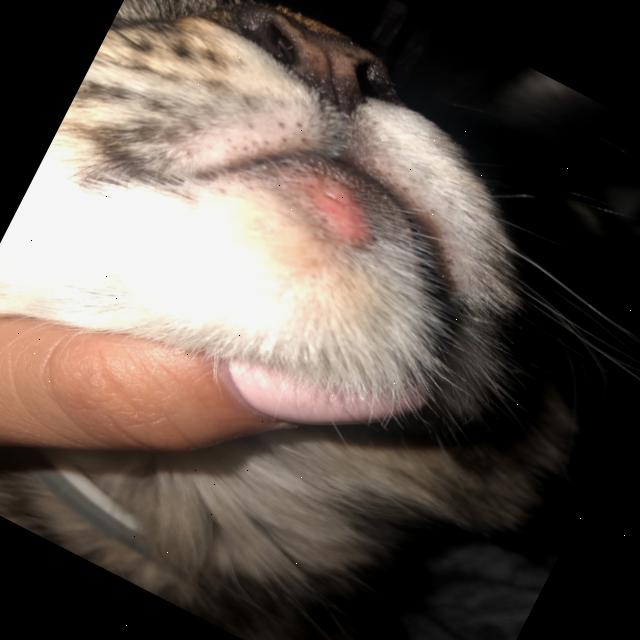cat-acne: (272, 155, 396, 262)
